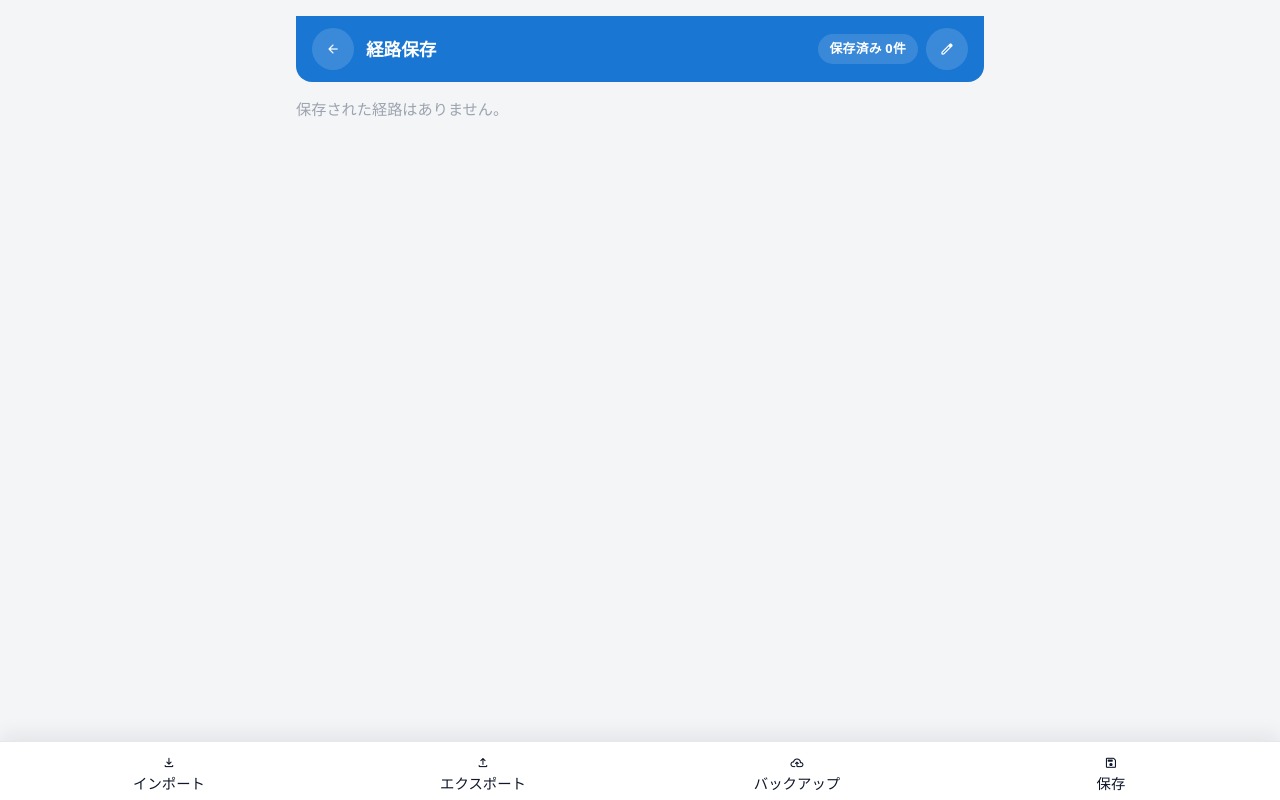
Scenario: /save/+page.svelte › インポート時に buildRoute rc=1 を成功扱いにする
Click the button "インポート" at (169, 775), box [12,750,326,799]
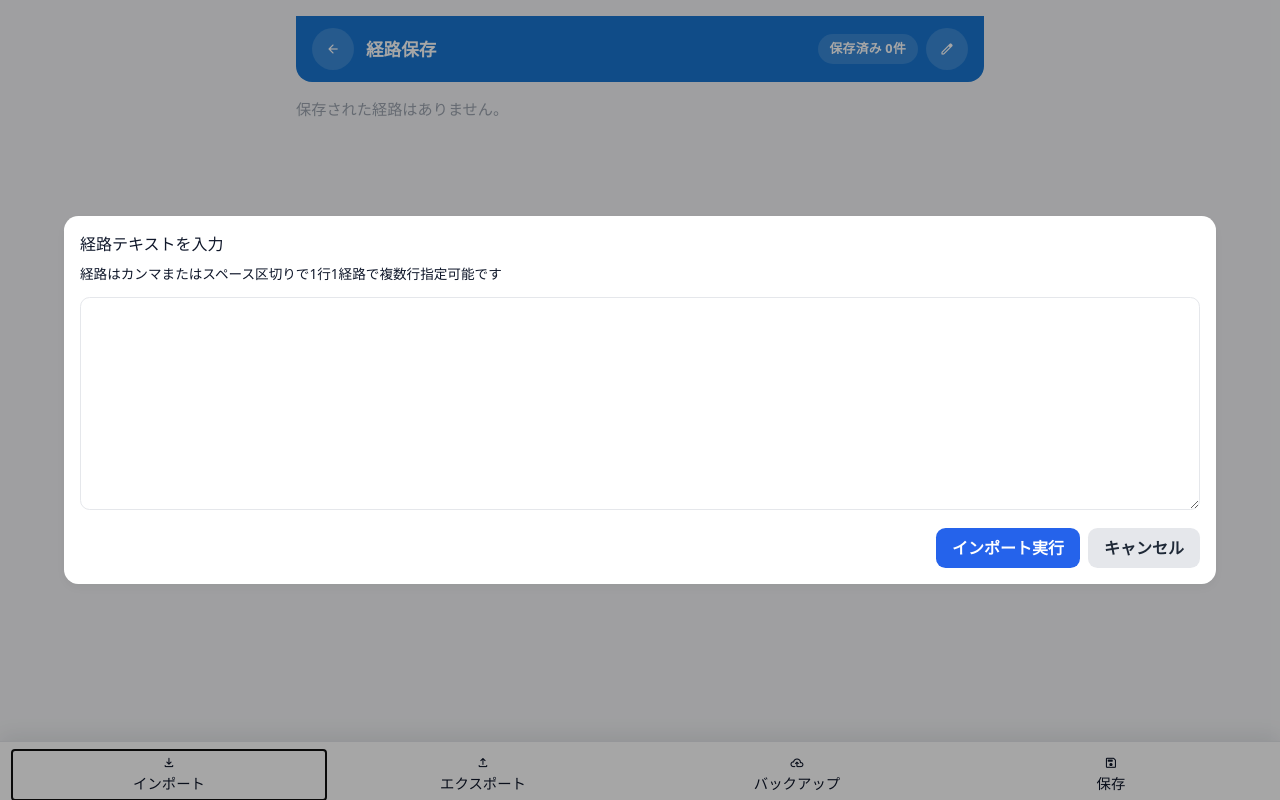
Type "東京,東海道線,熱海" into the text box named "経路テキスト" at (640, 403), box [80,297,1200,510]
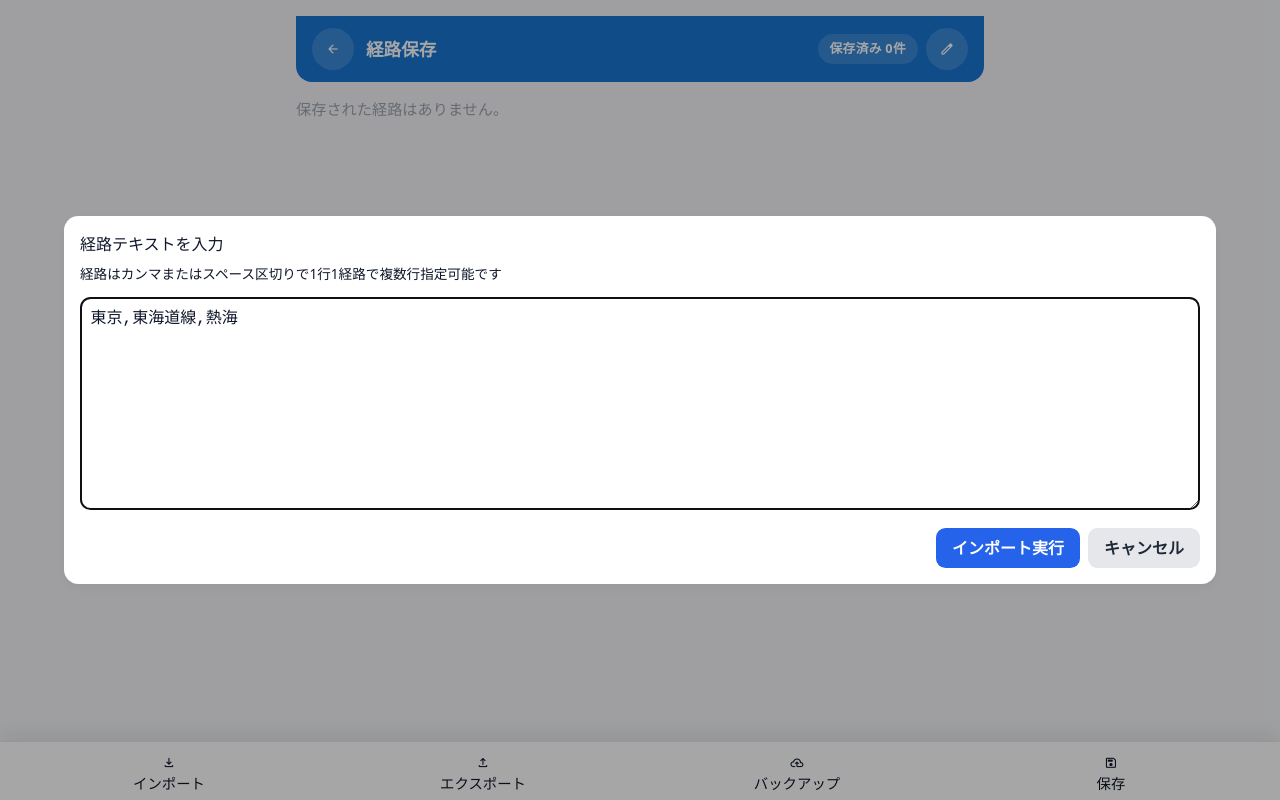
Click the button "インポート実行" at (1008, 548), box [936,528,1080,568]
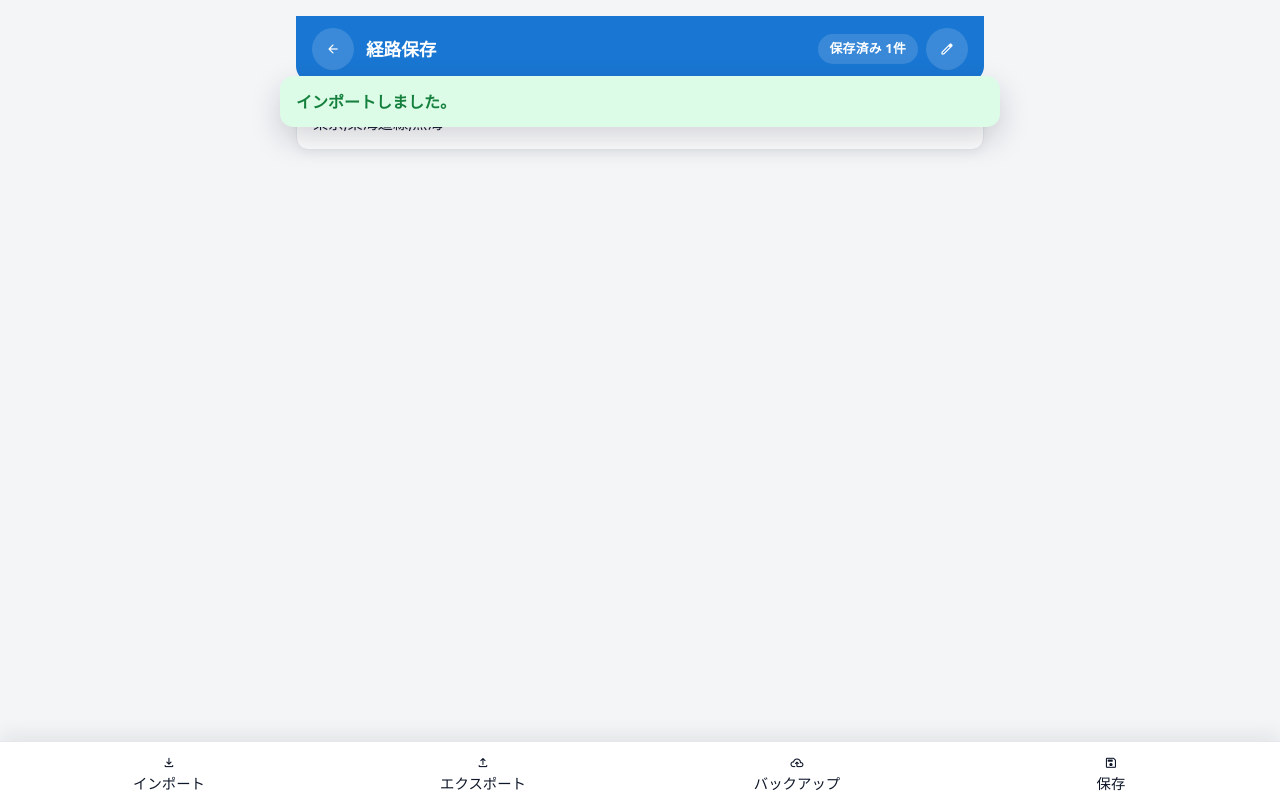
expect the text "インポートしました。" is shown: met, box [296,91,456,113]
